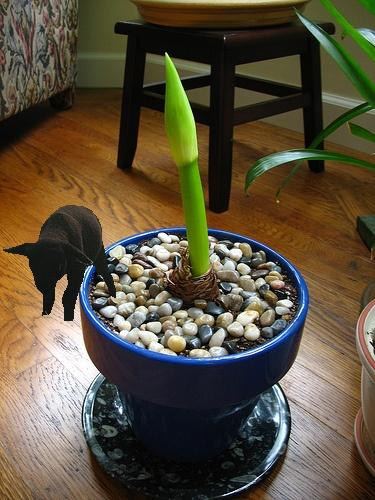tampered: (4, 206, 116, 321)
